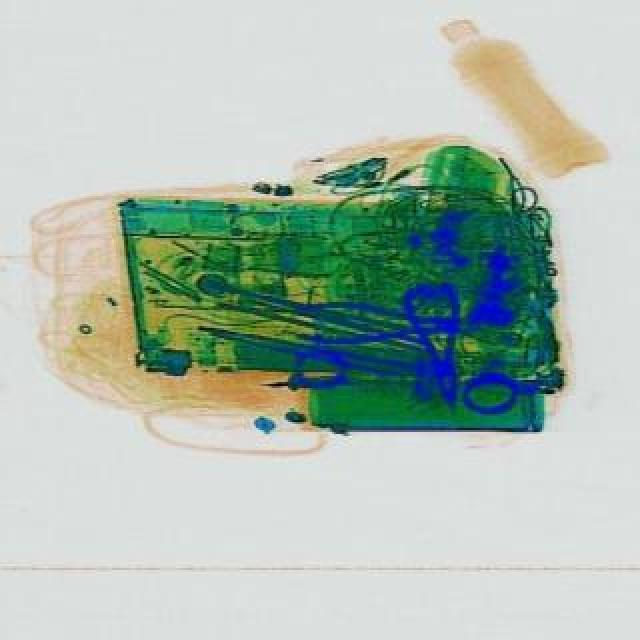wrench: (396, 282, 478, 422), (290, 302, 480, 354)
